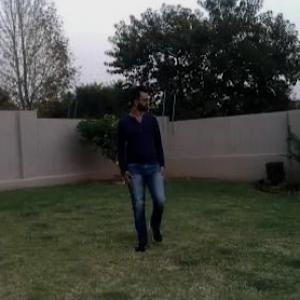follow: (118, 77, 168, 248)
